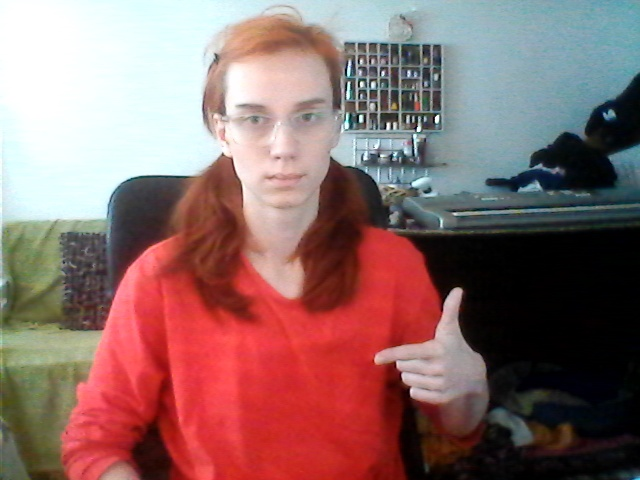dva_dve: (368, 286, 487, 417)
